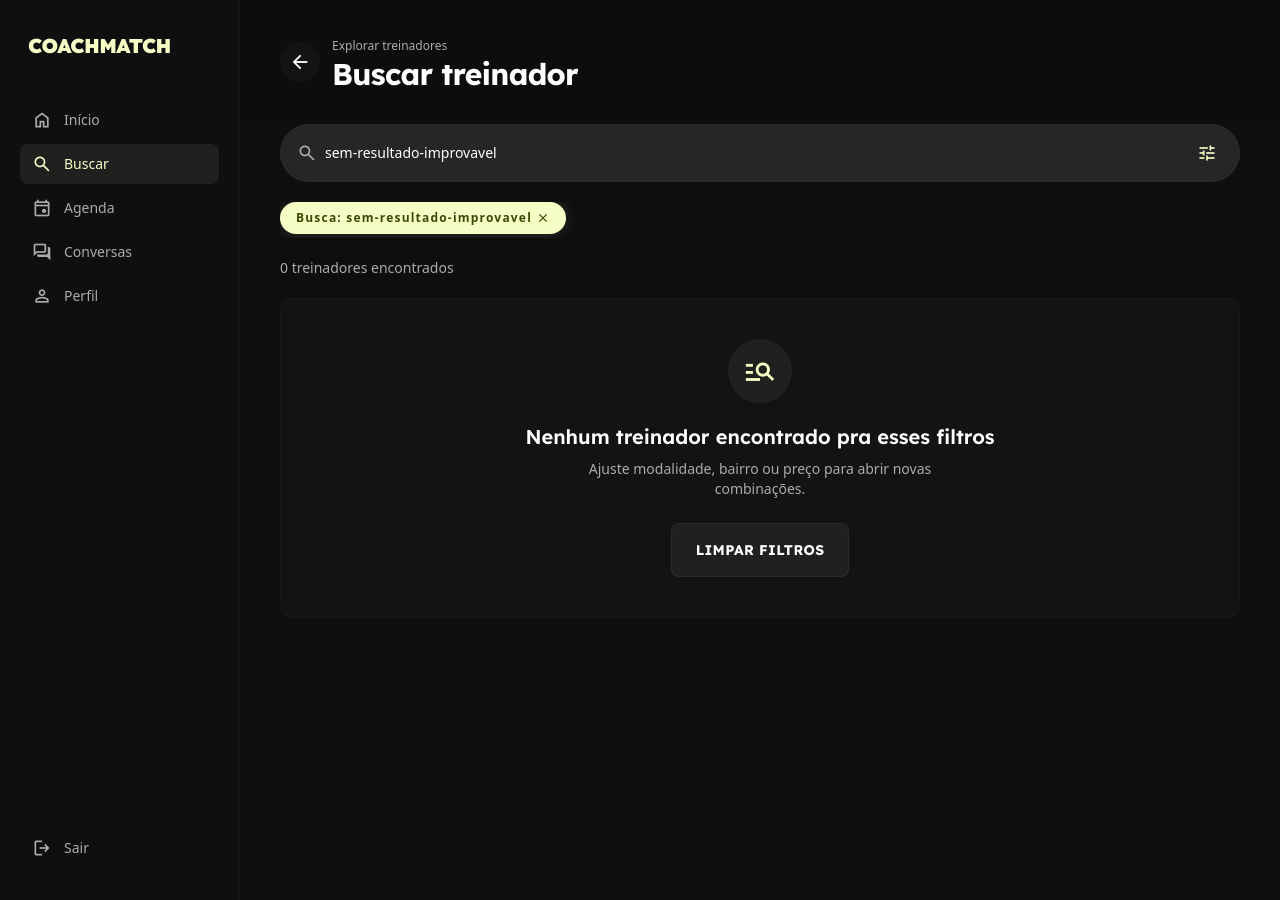
Test case: ClientSearchPage › mostra estado vazio e limpa os filtros
Expected: the heading "Nenhum treinador encontrado pra esses filtros" is shown, top-left (525, 423), bottom-right (995, 451)
Click the button "LIMPAR FILTROS": (760, 550) top-left (671, 523), bottom-right (849, 577)
(page scrolled)
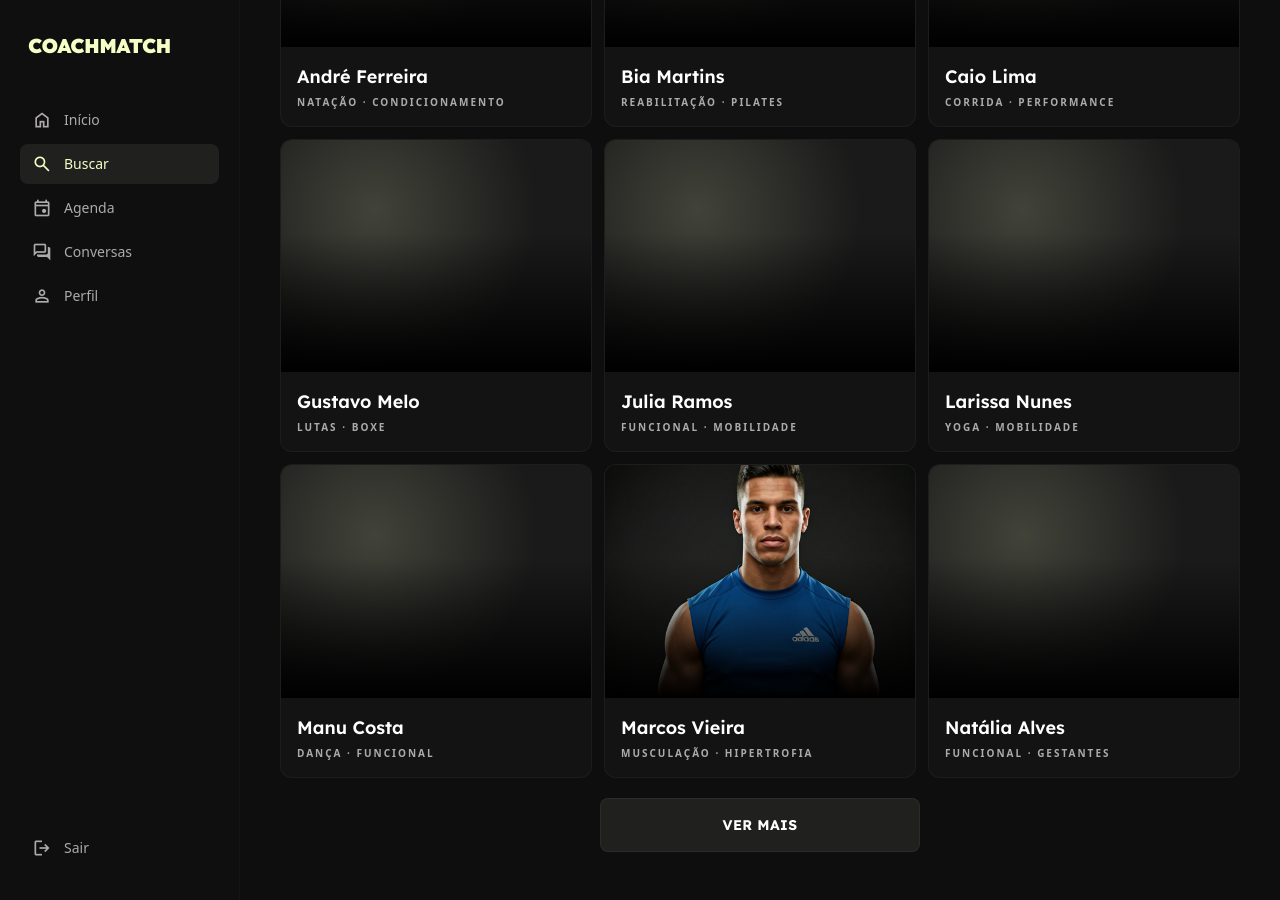
Expected: the text "Marcos Vieira" is shown, top-left (621, 716), bottom-right (745, 738)
